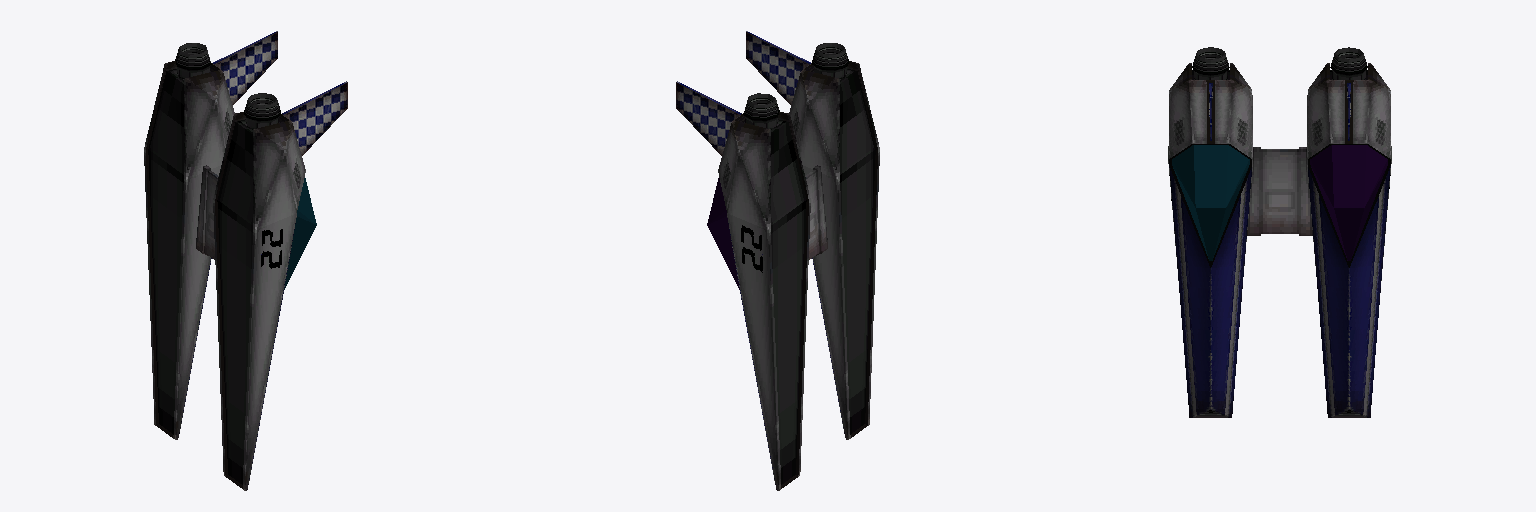
The picture shows the model from 3 angles: view 1: azimuth 30°, elevation 25°; view 2: azimuth 150°, elevation 25°; view 3: azimuth 270°, elevation 25°; orthographic projection.
Bounding box in the file's own units: 1.35 × 4.31 × 2.31.
Materials: 1 (1 with a texture image).